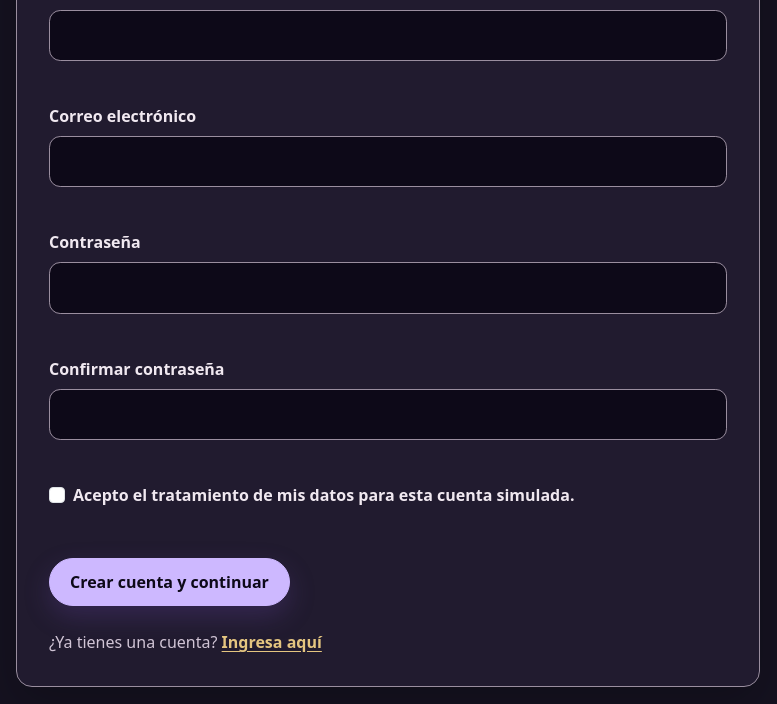
Test: Pruebas unitarias de páginas › 10. Registro valida campos vacíos sin iniciar sesión ni navegar
(page scrolled)
Click the button "Crear cuenta y continuar" at (169, 582), box [49,558,290,606]
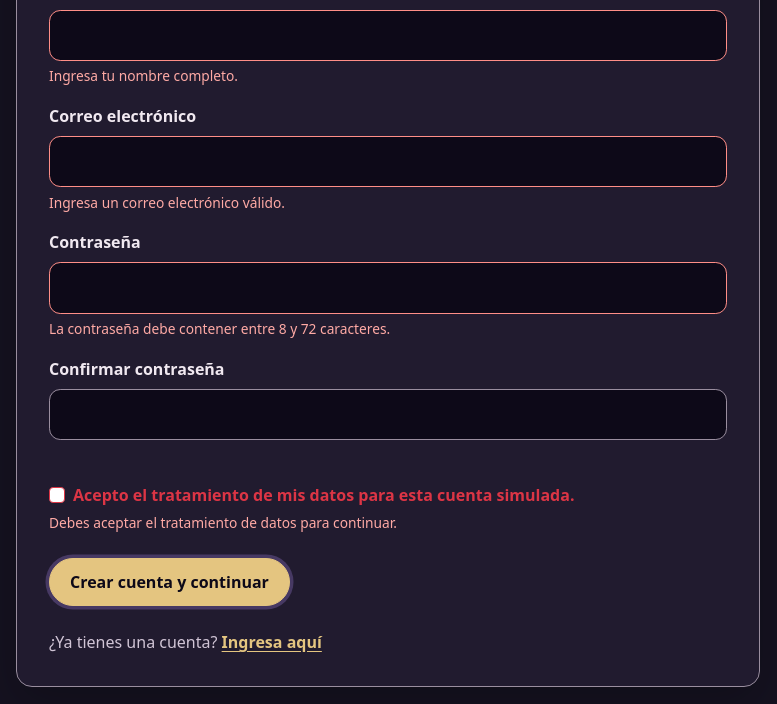
expect the text "Ingresa tu nombre completo." is shown: met, box [49,66,238,85]
expect the text "Ingresa un correo electrónico válido." is shown: met, box [49,193,285,212]
expect the text "La contraseña debe contener entre 8 y 72 caracteres." is shown: met, box [49,319,390,338]
